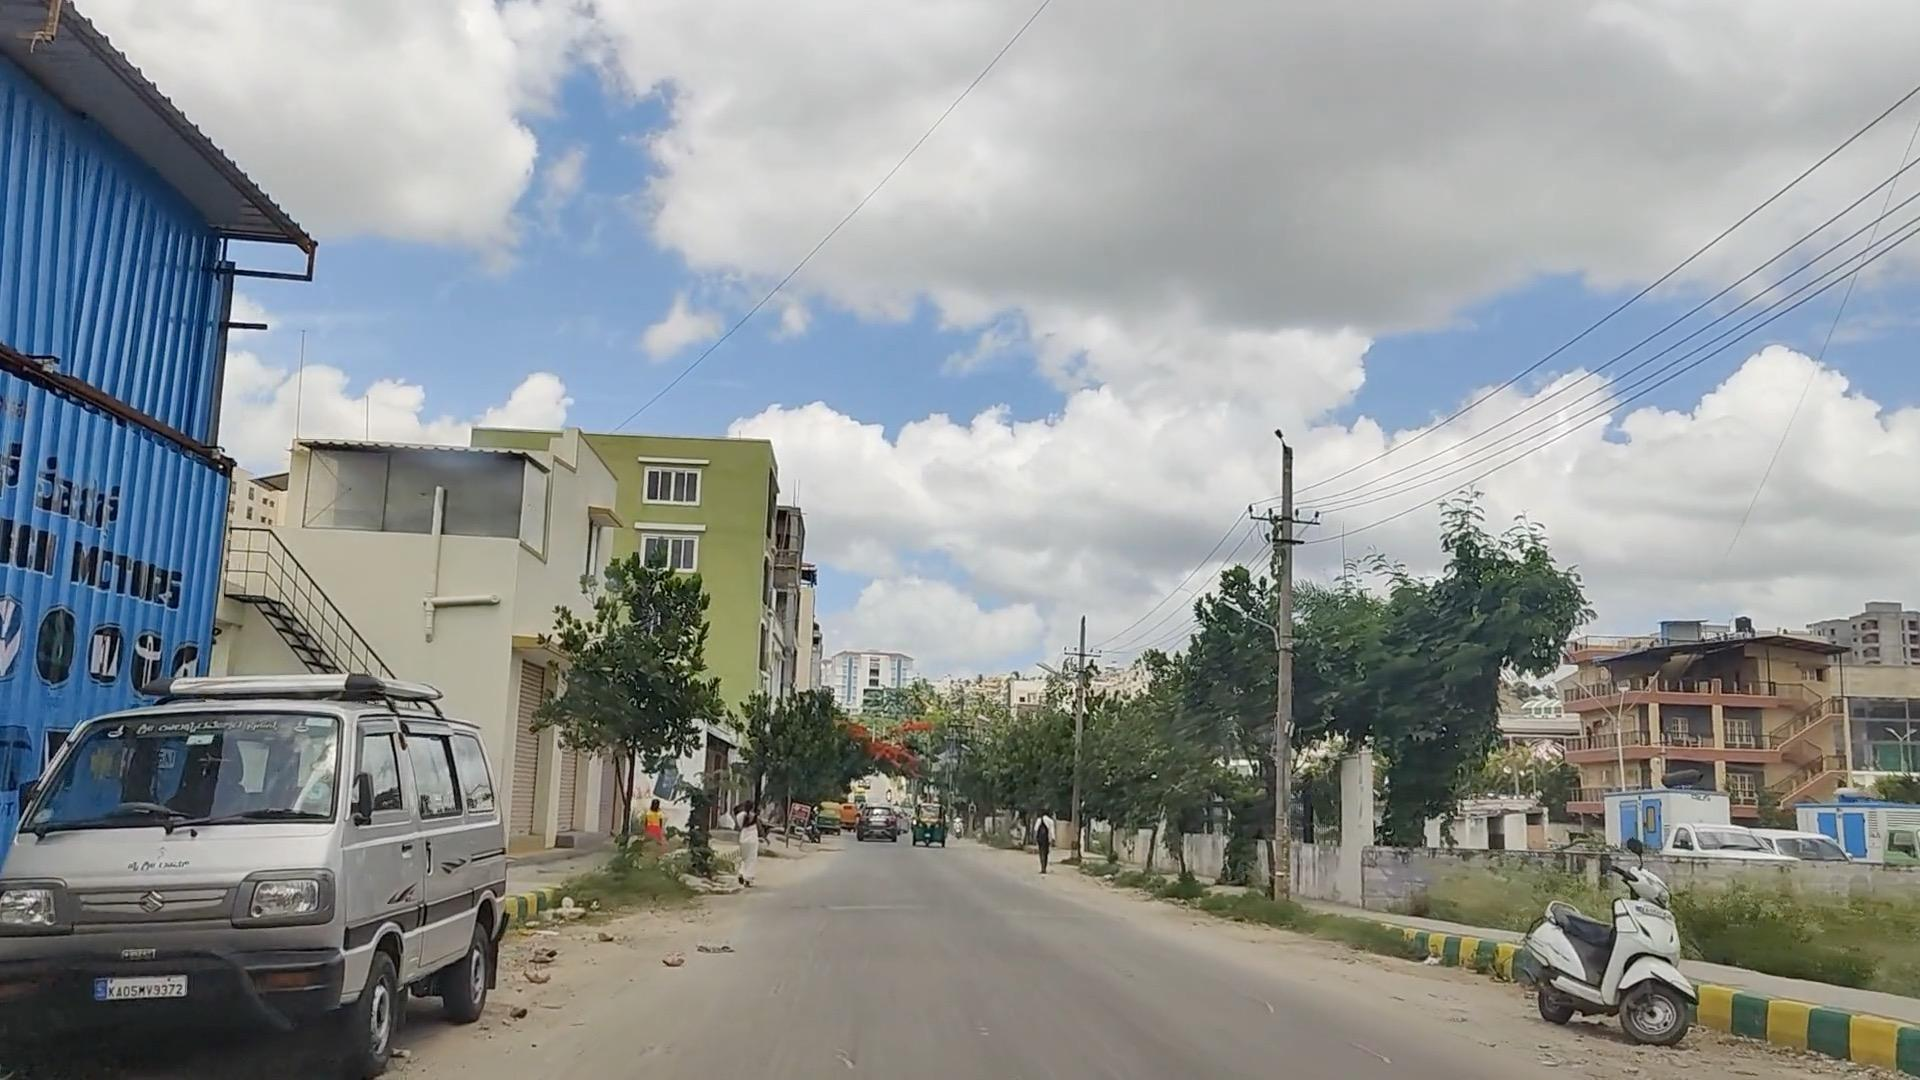LMV: (0, 642, 357, 1072), (1535, 837, 1677, 1038)
